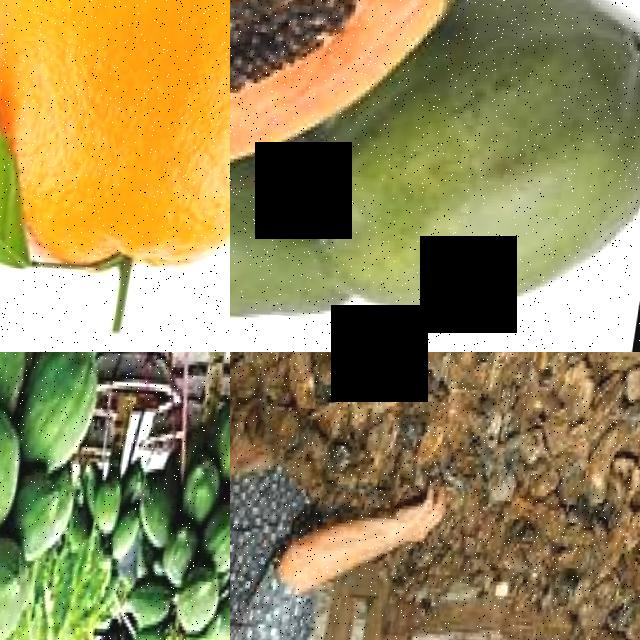orange: (0, 0, 230, 288)
pawpaw: (342, 0, 640, 338), (230, 0, 450, 160), (230, 146, 339, 352), (26, 352, 111, 464), (0, 406, 27, 551), (0, 541, 38, 640), (177, 574, 227, 640), (140, 477, 184, 552), (126, 575, 181, 631), (166, 529, 203, 596), (200, 499, 230, 578), (0, 352, 34, 418), (97, 481, 127, 543), (115, 512, 146, 563), (216, 384, 230, 474), (215, 585, 230, 640)
